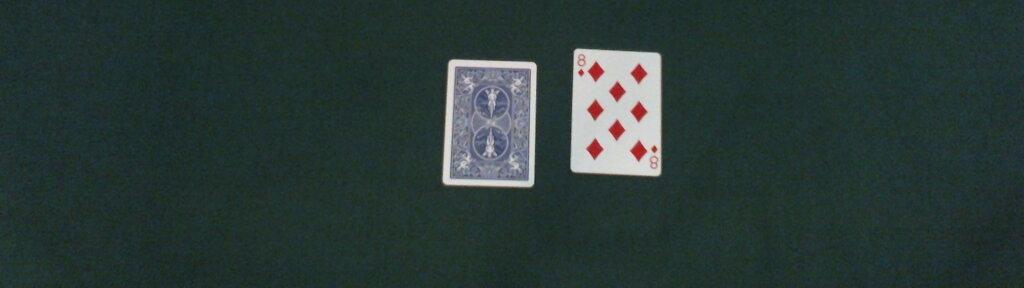back: (442, 59, 537, 188)
eight: (569, 47, 663, 176)
